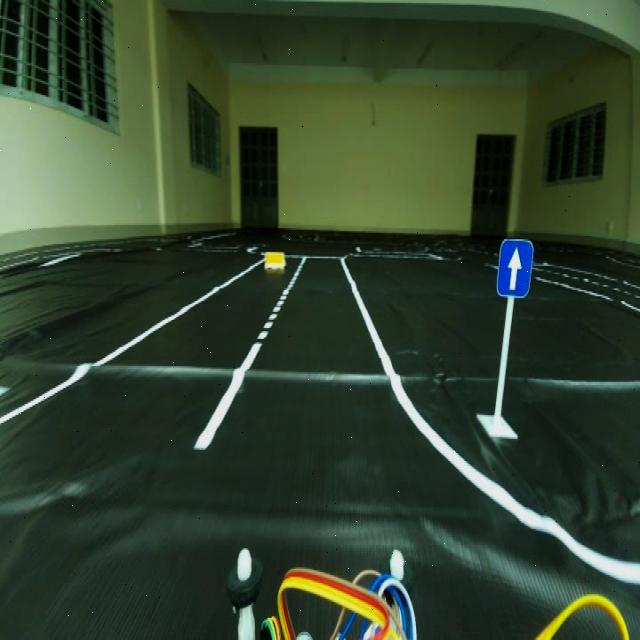onewayroad: (491, 238, 534, 302)
roadblock: (260, 250, 290, 278)
